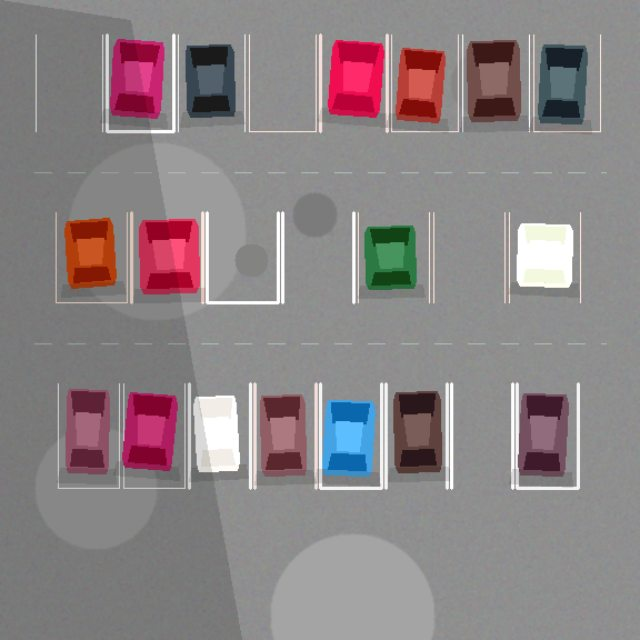space-empty: (249, 34, 316, 131), (451, 383, 512, 488), (36, 34, 102, 131), (207, 212, 278, 302), (282, 212, 353, 302), (433, 212, 504, 302)
space-occupied: (254, 383, 316, 488), (320, 34, 387, 131), (391, 34, 458, 131), (462, 34, 529, 131), (533, 34, 600, 131), (58, 383, 119, 488), (123, 383, 184, 488), (189, 383, 250, 488), (320, 383, 381, 488), (386, 383, 447, 488), (517, 383, 578, 488), (107, 34, 173, 131), (178, 34, 244, 131), (56, 212, 127, 302), (131, 212, 202, 302), (358, 212, 429, 302), (509, 212, 580, 302)
